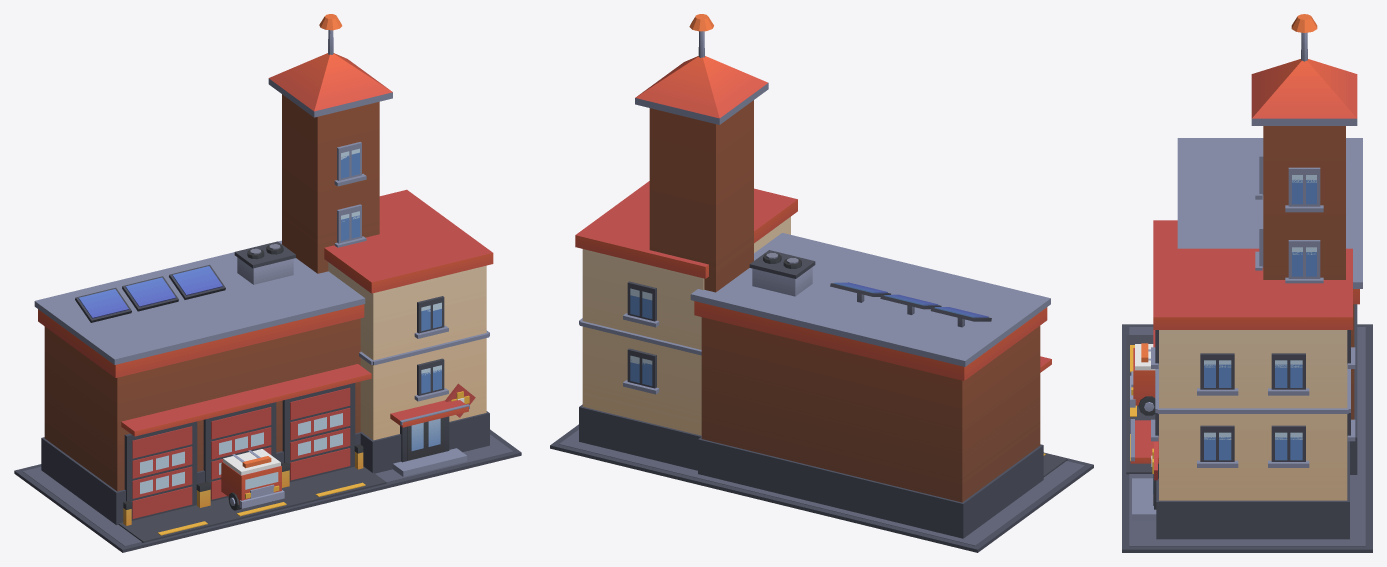
File: fire_depot_2x1.glb
3 renders of one model, left to right at view 1: azimuth 30°, elevation 25°; view 2: azimuth 150°, elevation 25°; view 3: azimuth 270°, elevation 25°, orthographic. The views are drawn at different scales.
Parts seen in each view (by area): view 1: fire_depot_2x1; view 2: fire_depot_2x1; view 3: fire_depot_2x1.
Part boxes in pixels (<box>): fire_depot_2x1: <box>14,14,521,552</box>; fire_depot_2x1: <box>550,14,1093,552</box>; fire_depot_2x1: <box>1122,14,1372,552</box>.
Size of the model in its own units: 3.74 by 3.66 by 1.76.
Materials: 1 (1 with a texture image).
